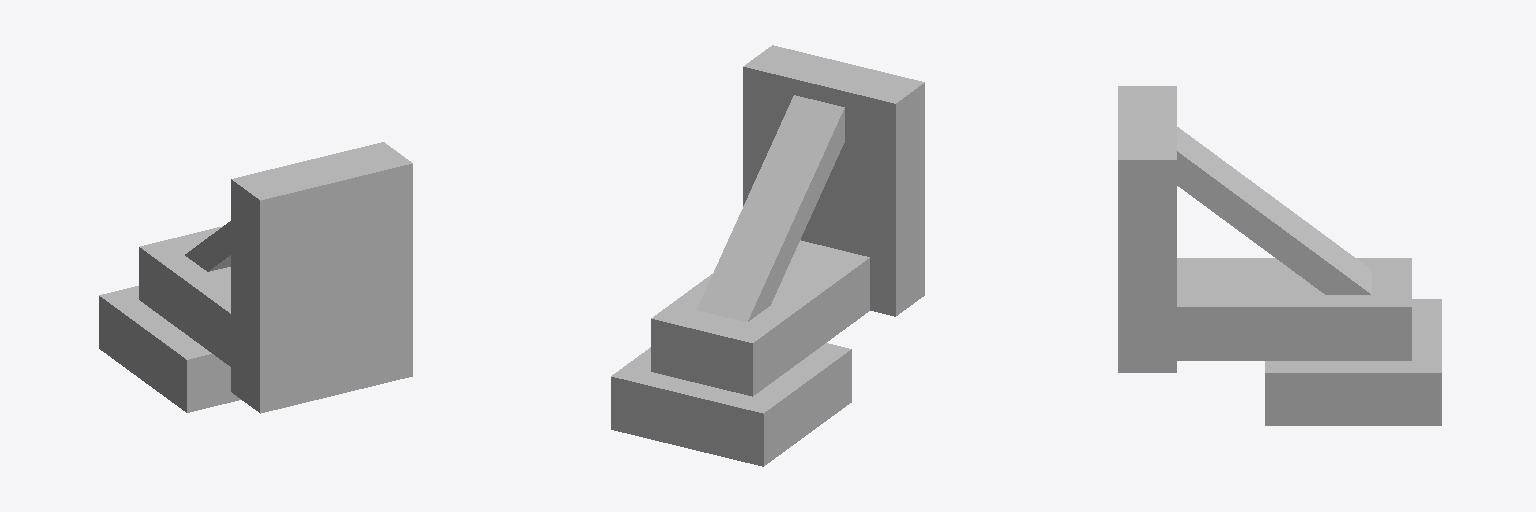
The model's file is wallmount_inverted.obj.
3 renders of one model, left to right at view 1: azimuth 30°, elevation 25°; view 2: azimuth 150°, elevation 25°; view 3: azimuth 270°, elevation 25°, orthographic.
Parts seen in each view (by area): view 1: inverted; view 2: inverted; view 3: inverted.
Boxes of the visible parts, x1,y1,x2,y2 form: inverted: [99, 142, 412, 413]; inverted: [611, 45, 924, 466]; inverted: [1118, 86, 1441, 425].
Bounding box in the file's own units: 0.375 × 0.625 × 0.6875.